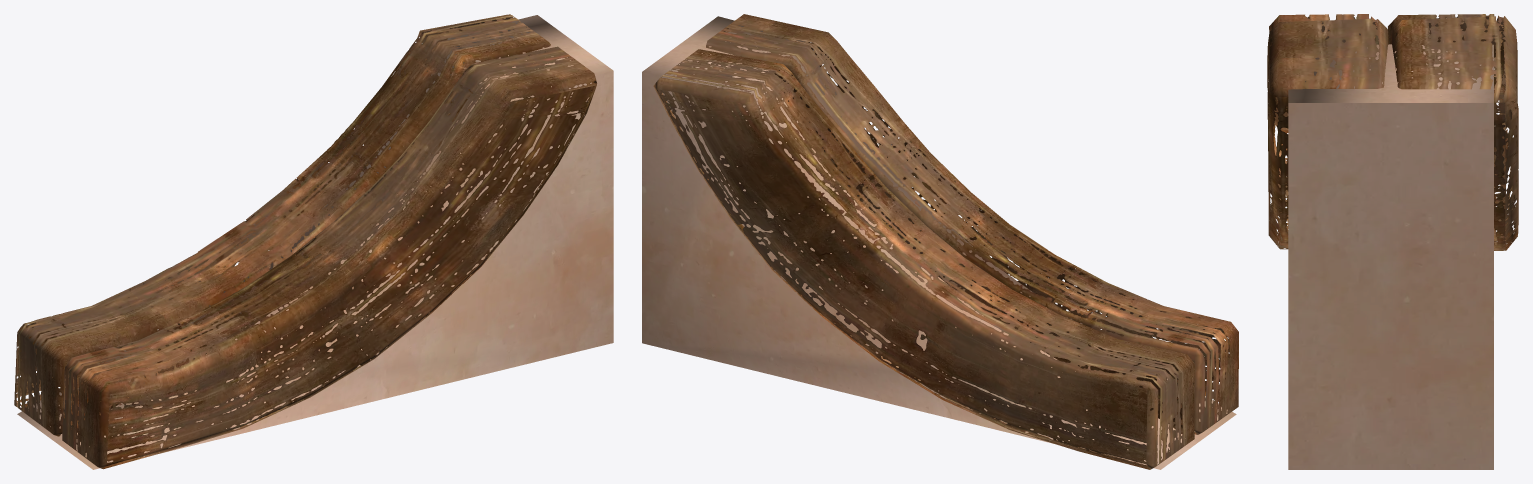
3 views of the same model, side by side, from view 1: azimuth 30°, elevation 25°; view 2: azimuth 150°, elevation 25°; view 3: azimuth 270°, elevation 25° (orthographic). The views are drawn at different scales.
Parts seen in each view (by area): view 1: SM_BB_T4_Wall_Slanted_Shallow_Med_Curved_LOD0; view 2: SM_BB_T4_Wall_Slanted_Shallow_Med_Curved_LOD0; view 3: SM_BB_T4_Wall_Slanted_Shallow_Med_Curved_LOD0.
Boxes of the visible parts, box(x1,y1,x2,y2) form: SM_BB_T4_Wall_Slanted_Shallow_Med_Curved_LOD0: box(14, 14, 613, 469); SM_BB_T4_Wall_Slanted_Shallow_Med_Curved_LOD0: box(642, 14, 1238, 469); SM_BB_T4_Wall_Slanted_Shallow_Med_Curved_LOD0: box(1267, 14, 1518, 469).
Size of the model in its own units: 1.5 by 0.7765 by 0.4657.
Materials: 2 (2 with a texture image).
